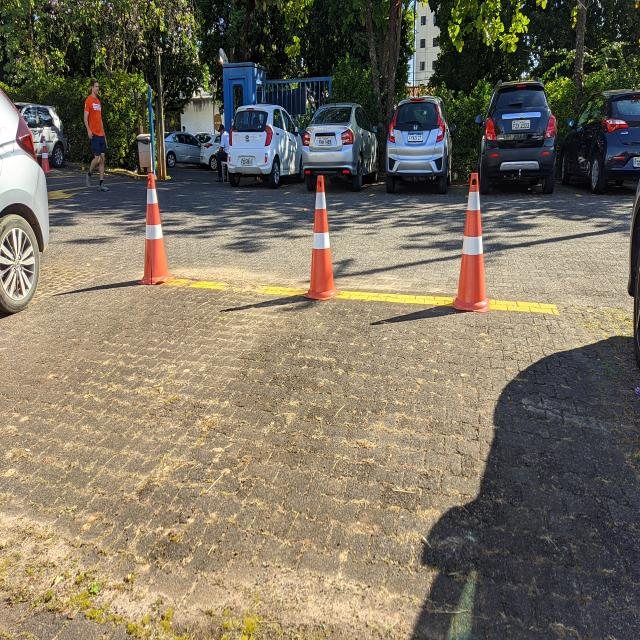cone: (451, 169, 492, 315), (302, 172, 342, 304), (134, 170, 172, 288), (40, 134, 51, 175)
